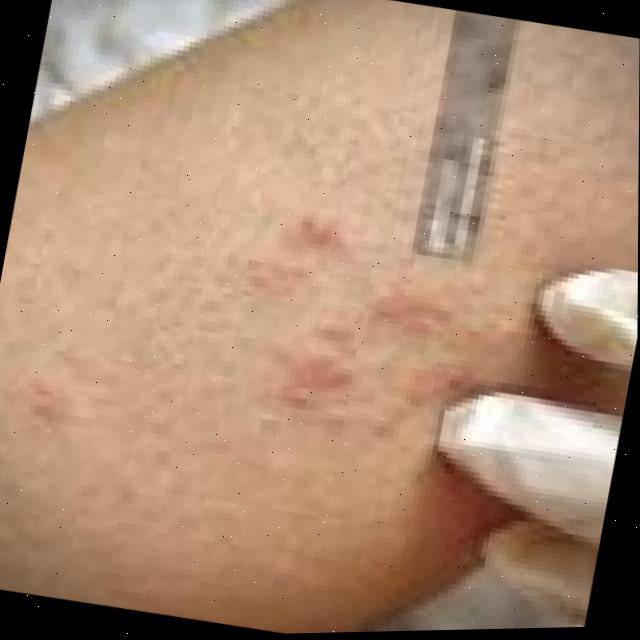Shingles: (214, 203, 506, 469)
